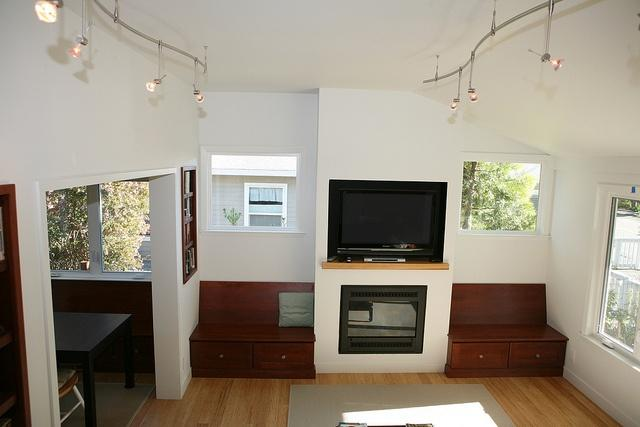AIO PC-Monitor-TV: (334, 187, 439, 263)
